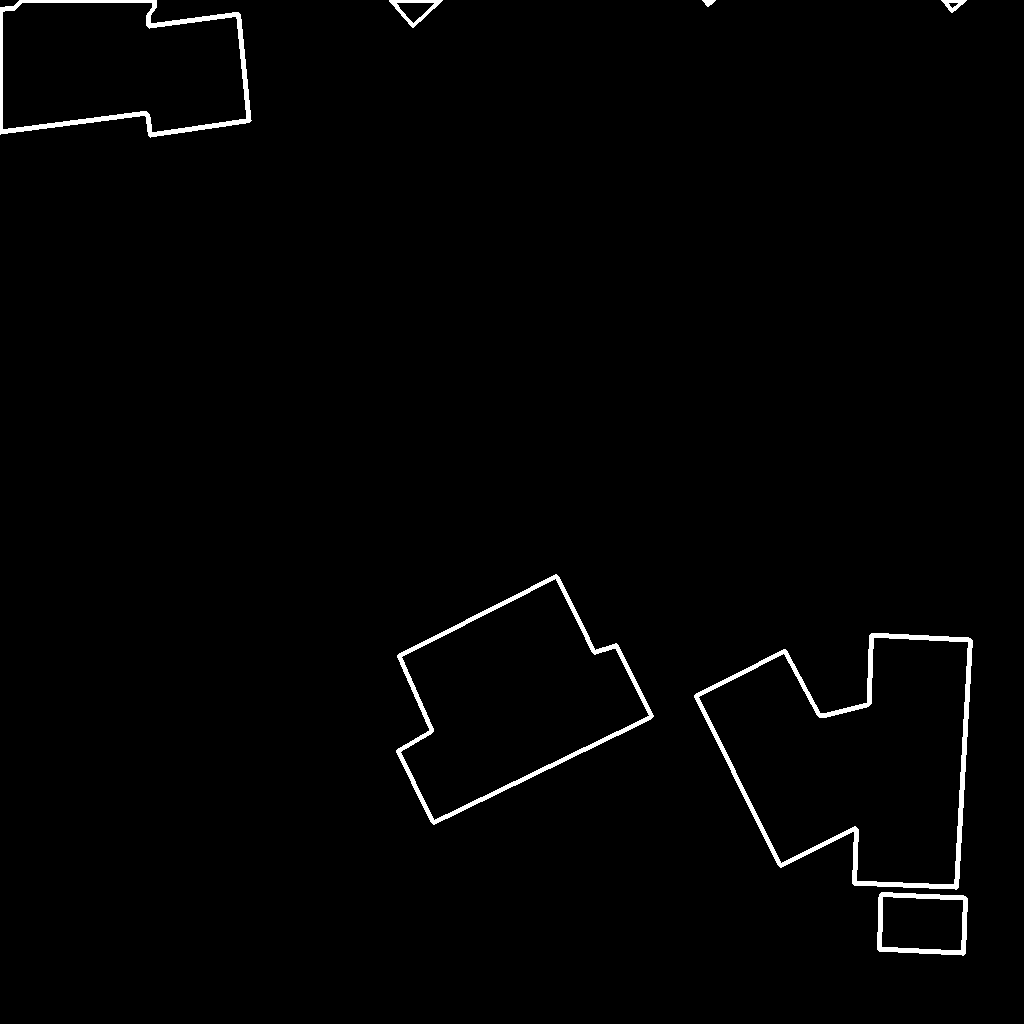building: (696, 635, 972, 888), (398, 576, 653, 824), (0, 0, 250, 136), (879, 894, 967, 954), (704, 0, 966, 12), (390, 0, 442, 27)
